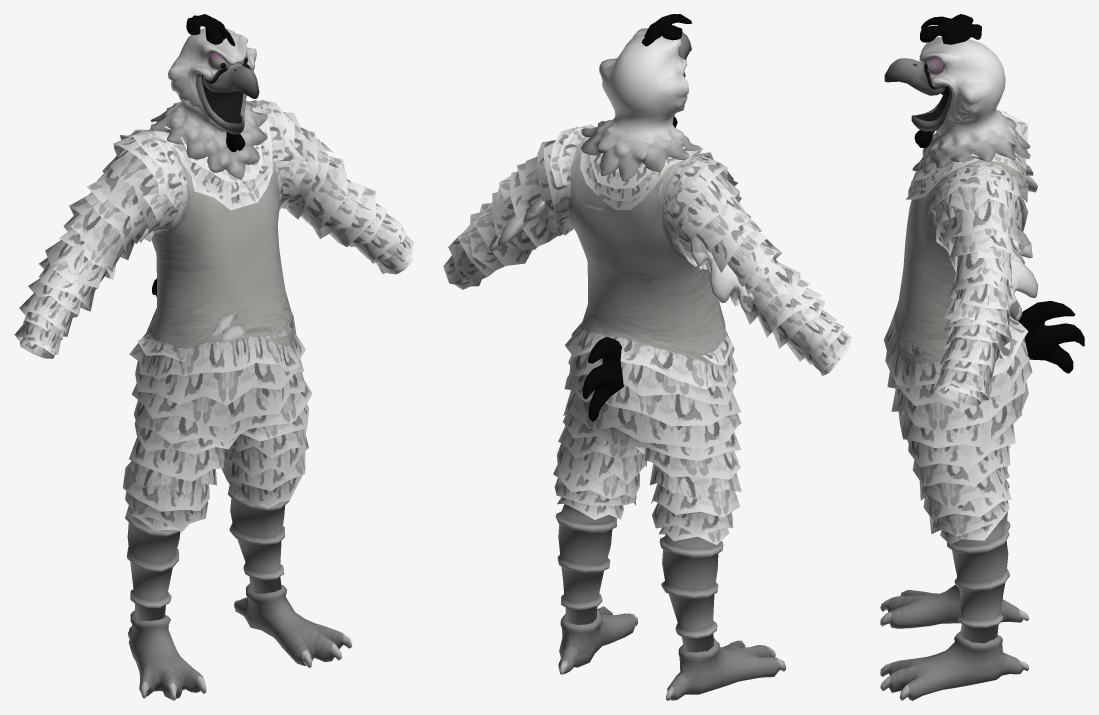
The model's file is SurvivorMale_Chest_ChickenSuit_LOD0.glb.
3 renders of one model, left to right at view 1: azimuth 30°, elevation 25°; view 2: azimuth 150°, elevation 25°; view 3: azimuth 270°, elevation 25°, orthographic. The views are drawn at different scales.
Parts seen in each view (by area): view 1: Hoodie; view 2: Hoodie; view 3: Hoodie.
Boxes of the visible parts, x1=… form: Hoodie: x1=14, y1=14, x2=414, y2=700; Hoodie: x1=443, y1=14, x2=851, y2=700; Hoodie: x1=880, y1=14, x2=1084, y2=700.
Bounding box in the file's own units: 1.21 × 1.92 × 0.5655.
Materials: 1 (1 with a texture image).
